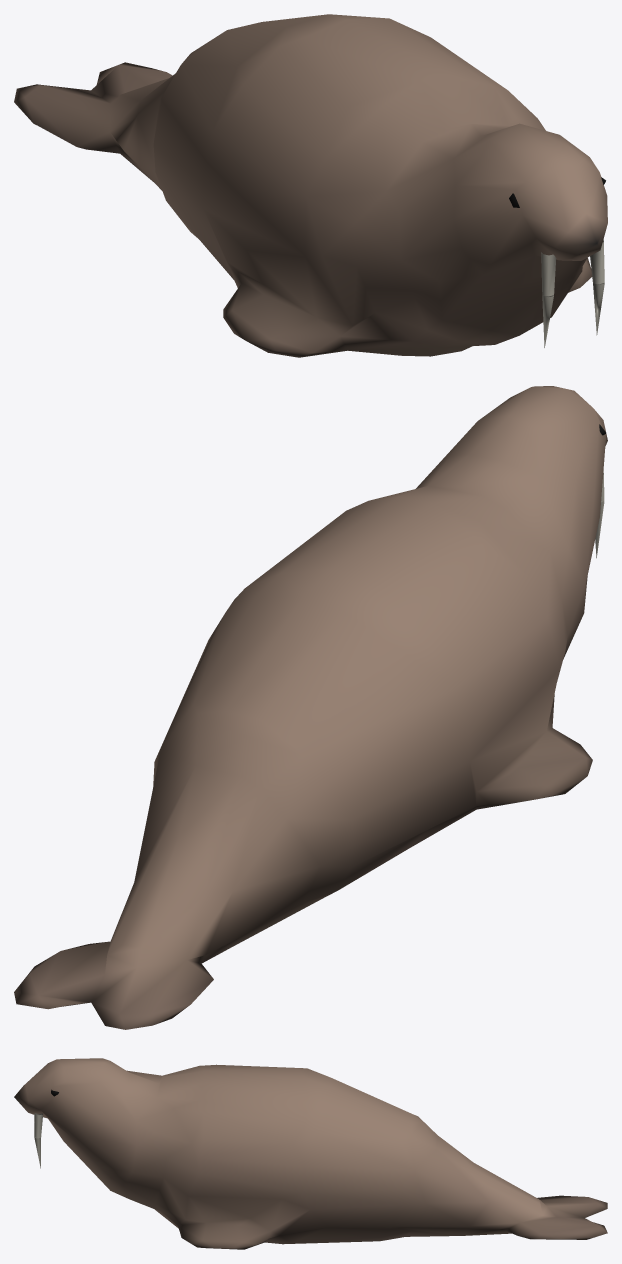
File: walross.glb
3 views of the same model, one above another, from view 1: azimuth 30°, elevation 25°; view 2: azimuth 150°, elevation 25°; view 3: azimuth 270°, elevation 25° (orthographic). The views are drawn at different scales.
Parts seen in each view (by area): view 1: lack; view 2: lack; view 3: lack.
Boxes of the visible parts, x1=… form: lack: x1=14, y1=14, x2=607, y2=357; lack: x1=14, y1=386, x2=607, y2=1029; lack: x1=14, y1=1058, x2=607, y2=1249.
Size of the model in its own units: 1.41 by 1.15 by 3.73.
